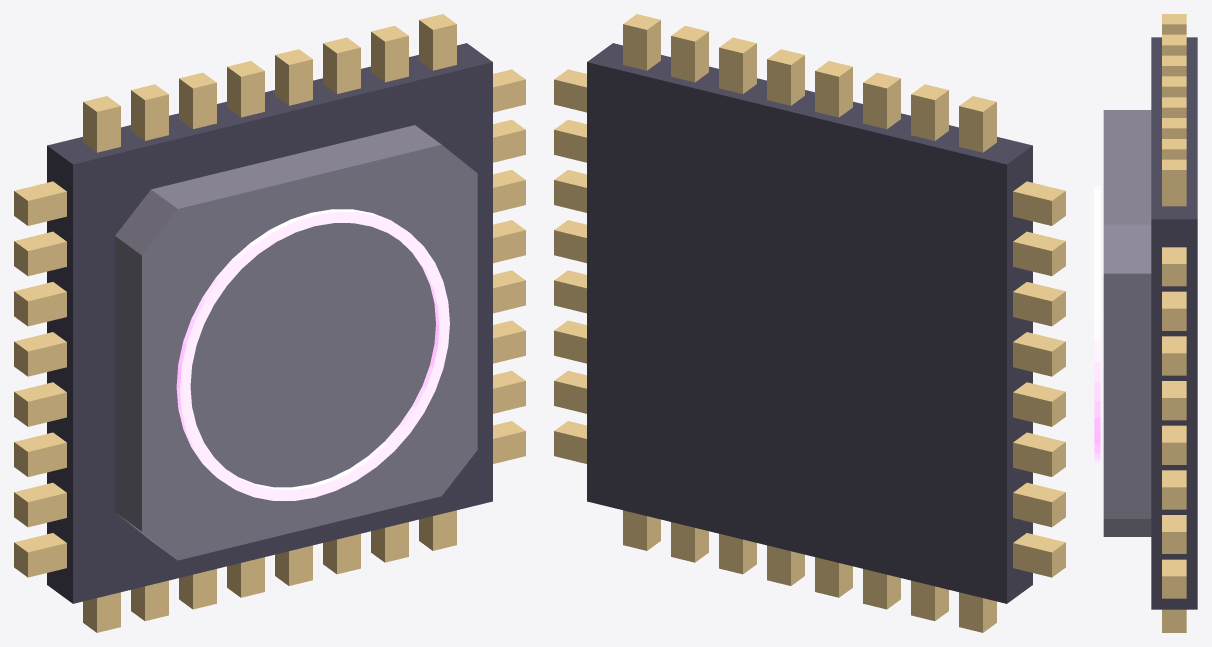
Rendered from processor.glb.
The picture shows the model from 3 angles, left to right: view 1: azimuth 30°, elevation 25°; view 2: azimuth 150°, elevation 25°; view 3: azimuth 270°, elevation 25°; orthographic projection. The views are drawn at different scales.
Parts seen in each view (by area): view 1: chamfered shroud, part (×33), LED ring; view 2: part (×33); view 3: part (×18), chamfered shroud, LED ring.
Boxes of the visible parts, bbox=[...] form: chamfered shroud: bbox=[115, 125, 477, 560]; part (×33): bbox=[14, 14, 525, 632]; LED ring: bbox=[176, 209, 449, 500]; part (×33): bbox=[554, 14, 1065, 632]; part (×18): bbox=[1151, 14, 1197, 632]; chamfered shroud: bbox=[1103, 110, 1151, 536]; LED ring: bbox=[1094, 185, 1100, 461].
Size of the model in its own units: 1.66 by 1.66 by 0.335.
